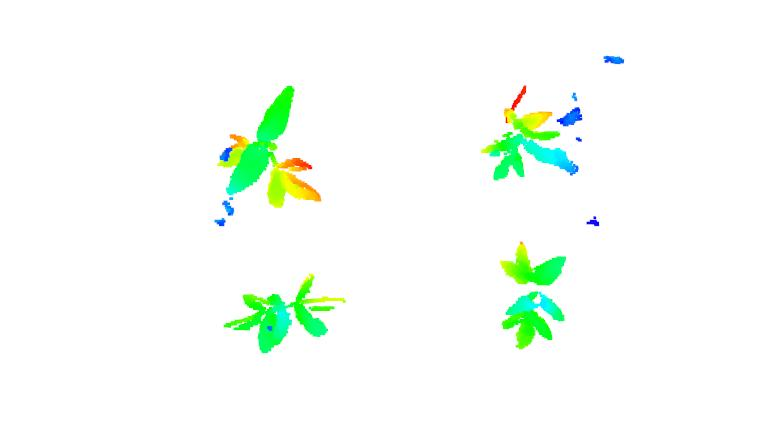mungbean: (214, 82, 324, 207), (485, 92, 585, 188), (491, 238, 571, 355), (225, 271, 335, 355)
